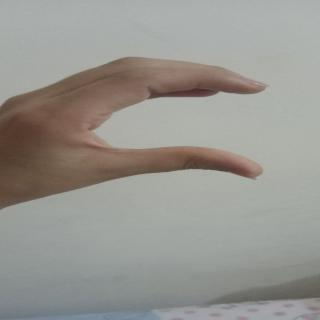JEEM: (0, 55, 311, 197)
